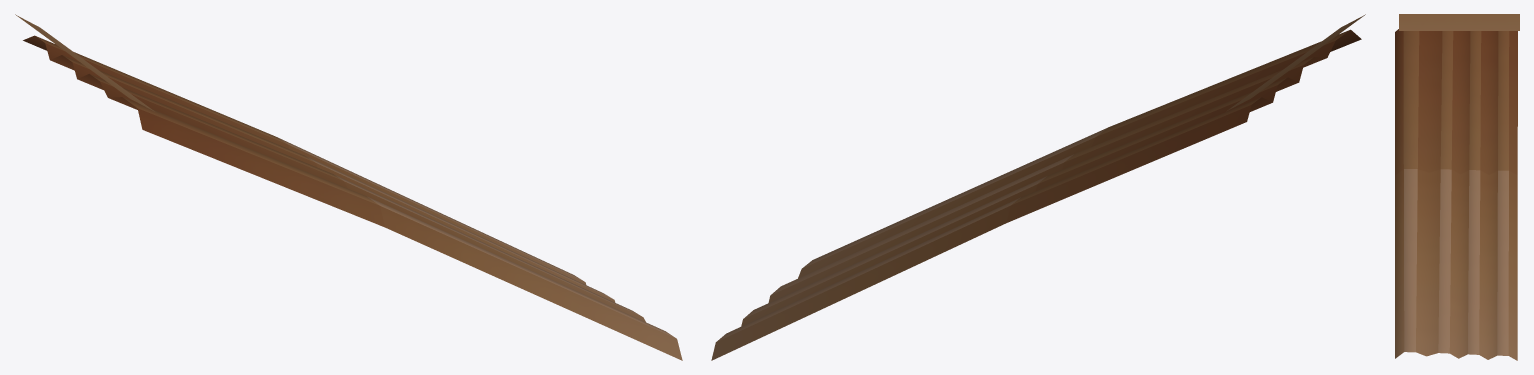
Rendered from SM_Building_MetalRoof_03.fbx.
3 renders of one model, left to right at view 1: azimuth 30°, elevation 25°; view 2: azimuth 150°, elevation 25°; view 3: azimuth 270°, elevation 25°, orthographic. The views are drawn at different scales.
Parts seen in each view (by area): view 1: SM_Building_MetalRoof_03; view 2: SM_Building_MetalRoof_03; view 3: SM_Building_MetalRoof_03.
Boxes of the visible parts, <box> form: SM_Building_MetalRoof_03: <box>15,14,682,360</box>; SM_Building_MetalRoof_03: <box>711,14,1365,360</box>; SM_Building_MetalRoof_03: <box>1395,14,1519,360</box>.
Bounding box in the file's own units: 2.75 × 1.9 × 1.03.
